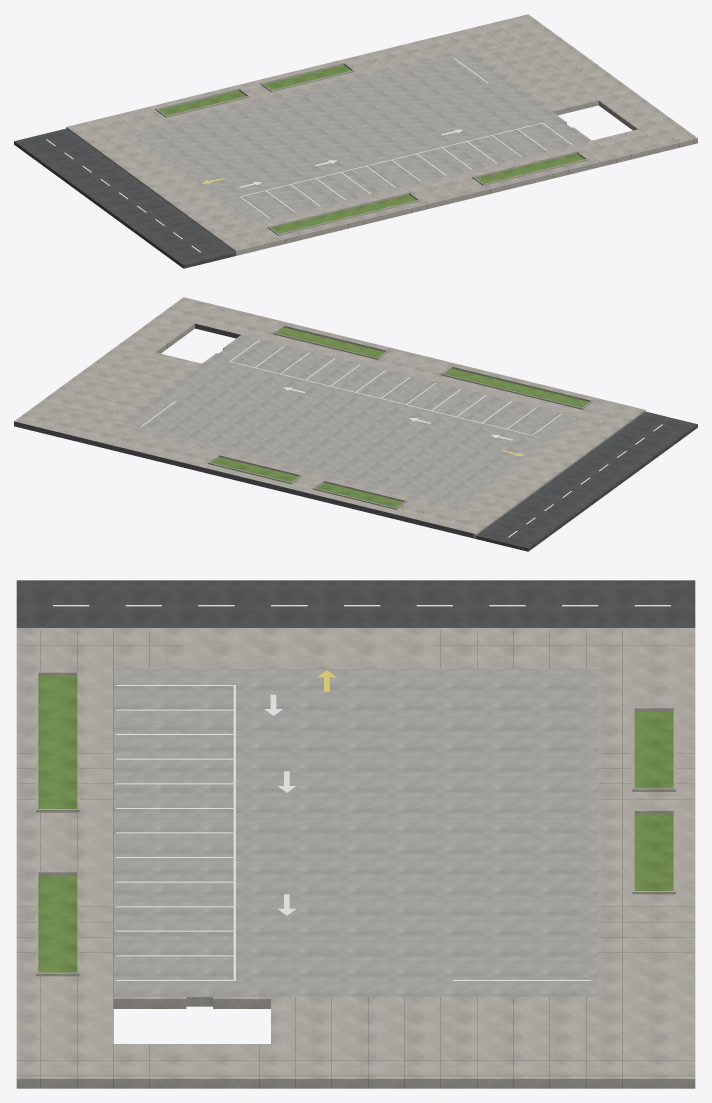
Rendered from site.glb.
3 views of the same model, one above another, from view 1: azimuth 30°, elevation 25°; view 2: azimuth 150°, elevation 25°; view 3: azimuth 270°, elevation 25° (orthographic). The views are drawn at different scales.
Visible parts, largest first — view 1: site_conc_s, site_concrete, site_asphalt, site_grass, site_paint_w; view 2: site_conc_s, site_concrete, site_asphalt, site_grass, site_dark, site_paint_w; view 3: site_conc_s, site_concrete, site_asphalt, site_grass, site_paint_w, site_dark.
Boxes of the visible parts, box(x1,y1,x2,y2) form: site_conc_s: box(133, 52, 589, 222); site_concrete: box(66, 14, 697, 255); site_asphalt: box(14, 128, 235, 268); site_grass: box(159, 65, 584, 233); site_paint_w: box(46, 57, 572, 252); site_conc_s: box(122, 335, 578, 505); site_concrete: box(14, 297, 645, 538); site_asphalt: box(475, 411, 697, 551); site_grass: box(211, 327, 589, 507); site_dark: box(14, 323, 473, 538); site_paint_w: box(140, 340, 662, 537); site_conc_s: box(113, 669, 598, 1006); site_concrete: box(16, 628, 695, 1088); site_asphalt: box(16, 580, 695, 627); site_grass: box(38, 676, 673, 972); site_paint_w: box(53, 605, 670, 980); site_dark: box(40, 630, 622, 1088).
Bounding box in the file's own units: 49 × 0.57 × 28.
7 materials, 4 textured.
